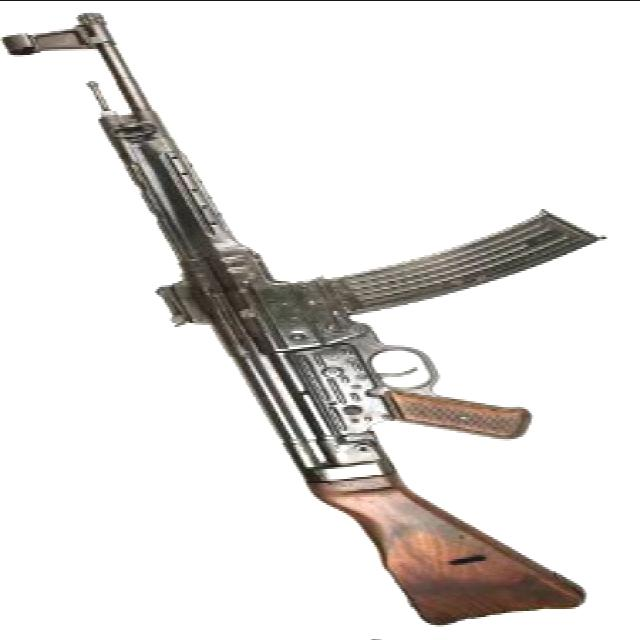long weapon: (4, 8, 604, 630)
